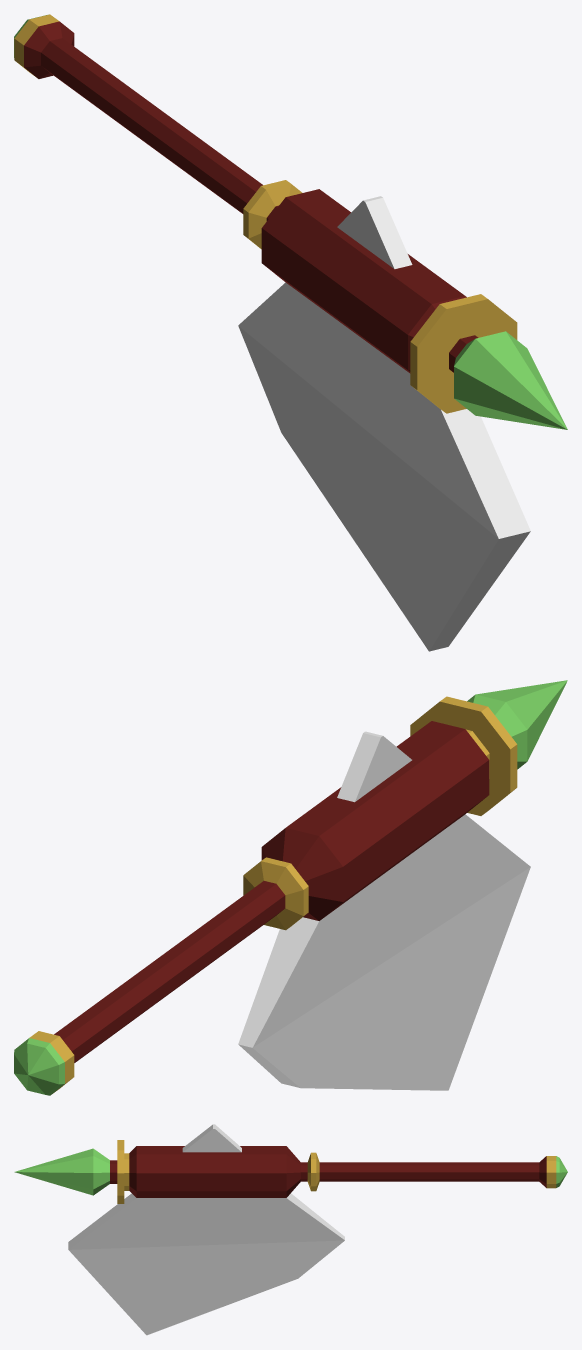
The model's file is axe.fbx.
The picture shows the model from 3 angles, top to bottom: view 1: azimuth 30°, elevation 25°; view 2: azimuth 150°, elevation 25°; view 3: azimuth 270°, elevation 25°; orthographic projection. The views are drawn at different scales.
Parts seen in each view (by area): view 1: axe_right; view 2: axe_right; view 3: axe_right.
Part boxes in pixels (left/top/right/bottom): axe_right: left=14, top=14, right=567, bottom=651; axe_right: left=14, top=680, right=567, bottom=1095; axe_right: left=14, top=1124, right=567, bottom=1335.
Bounding box in the file's own units: 118 × 453 × 1103.
